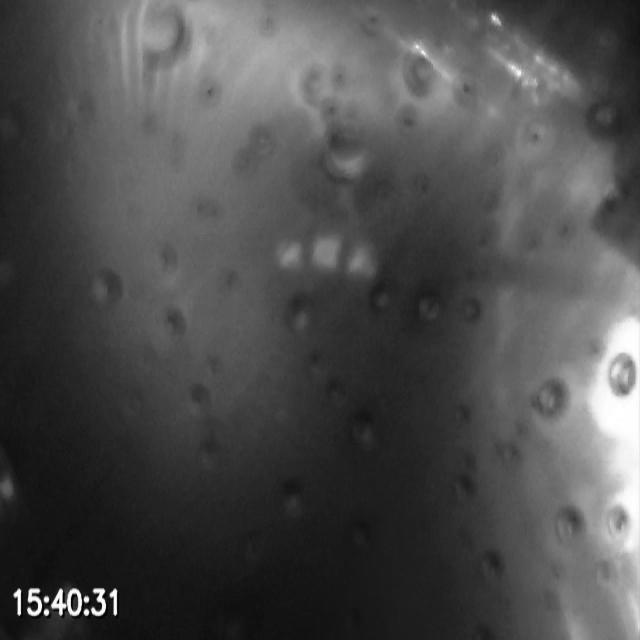white-dots: (272, 231, 379, 280)
